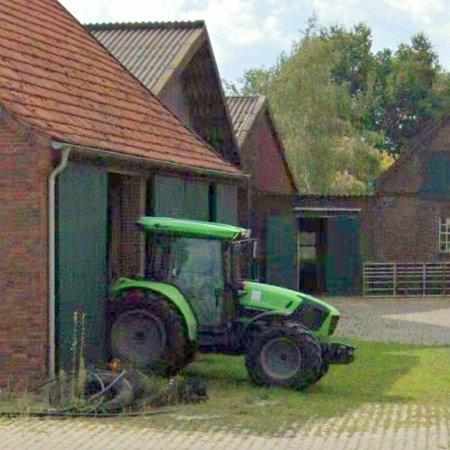tractors: (108, 219, 354, 390)
